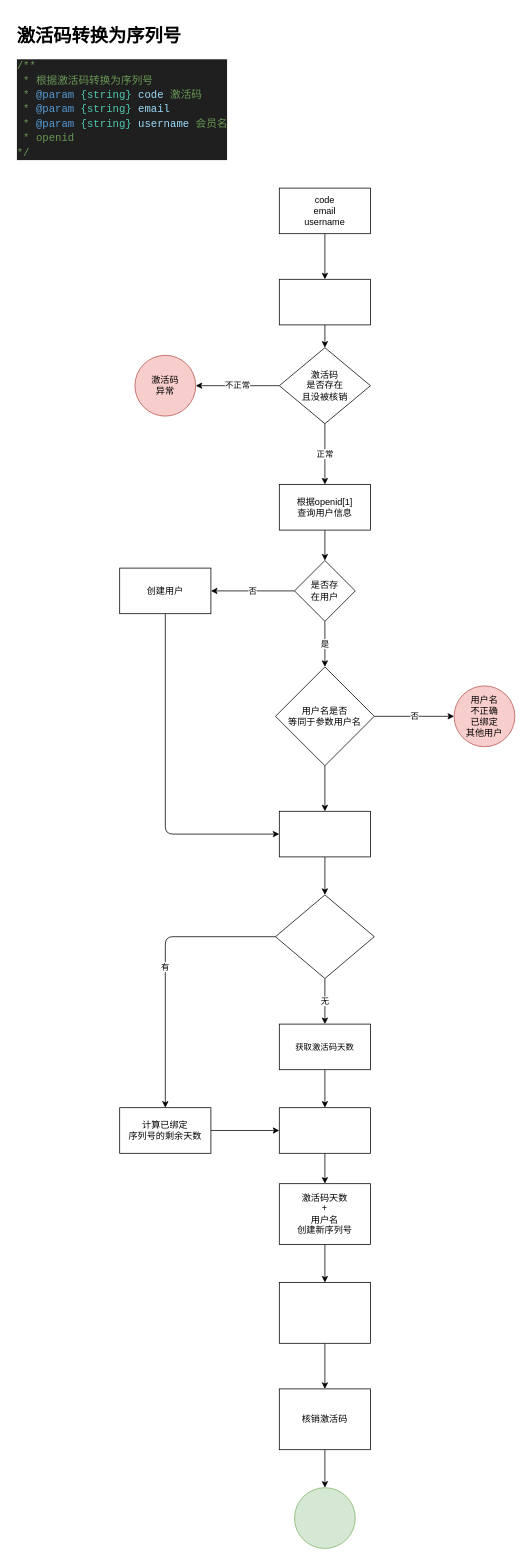
Image size: 528x1562. Some labels were removed from this diagram. Each missing label, with the centre of its shape:
"合并激活码天数" goes at [324,1130].
"合法用户" goes at [324,834].
"更新用户信息 保存用户 最新序列号信息" goes at [324,1312].
"查询用户 id有无绑定过序列号" goes at [324,936].
"激活成功" goes at [324,1517].
"获取微信信息[1] openid" goes at [324,302].
